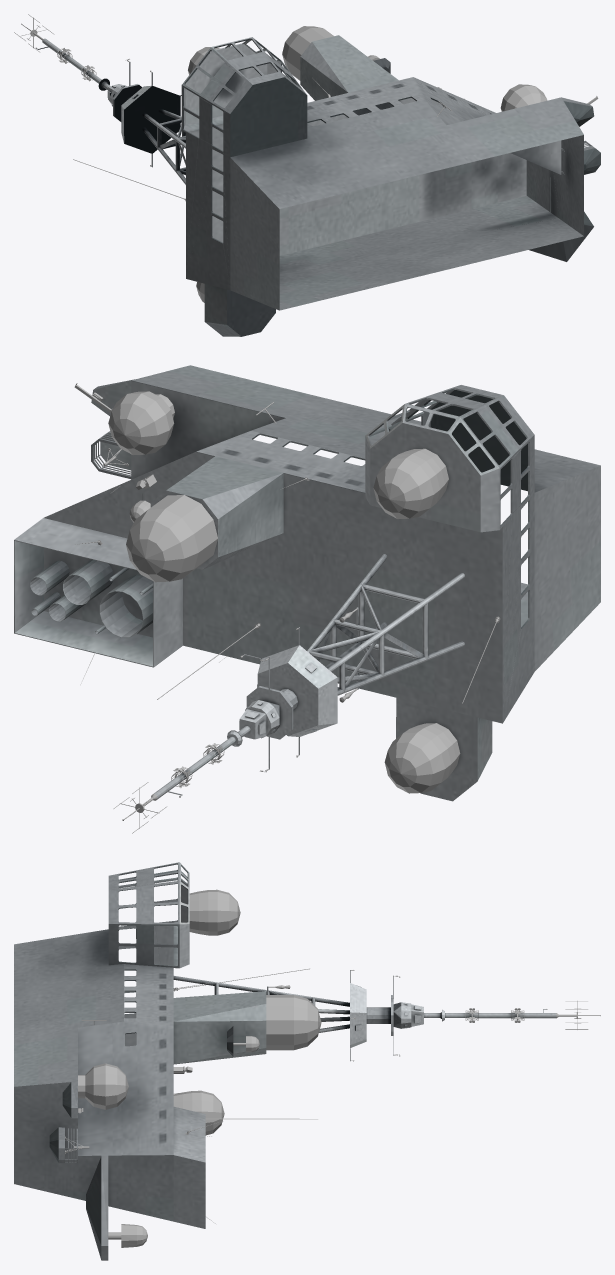
The model's file is cvfFrIlotArriereMurs.fbx.
The picture shows the model from 3 angles, top to bottom: view 1: azimuth 30°, elevation 25°; view 2: azimuth 150°, elevation 25°; view 3: azimuth 270°, elevation 25°; orthographic projection. The views are drawn at different scales.
Visible parts, largest first — view 1: ShapeIndexedFaceSet, ShapeIndexedFaceSet_002, ShapeIndexedFaceSet_001; view 2: ShapeIndexedFaceSet, ShapeIndexedFaceSet_001, ShapeIndexedFaceSet_002; view 3: ShapeIndexedFaceSet, ShapeIndexedFaceSet_001, ShapeIndexedFaceSet_002.
Part boxes in pixels (left/top/right/bottom): ShapeIndexedFaceSet: left=181, top=35, right=600, bottom=336; ShapeIndexedFaceSet_002: left=36, top=38, right=185, bottom=184; ShapeIndexedFaceSet_001: left=14, top=14, right=598, bottom=302; ShapeIndexedFaceSet: left=14, top=365, right=600, bottom=801; ShapeIndexedFaceSet_001: left=74, top=383, right=500, bottom=833; ShapeIndexedFaceSet_002: left=153, top=554, right=464, bottom=799; ShapeIndexedFaceSet: left=14, top=862, right=266, bottom=1260; ShapeIndexedFaceSet_001: left=65, top=889, right=600, bottom=1247; ShapeIndexedFaceSet_002: left=173, top=970, right=556, bottom=1061.
Bounding box in the file's own units: 35.74 × 23.96 × 45.97.
